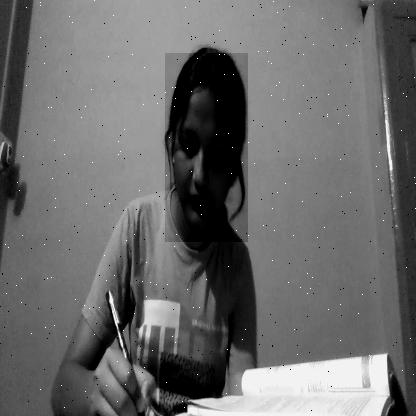Normal: (165, 53, 248, 242)
